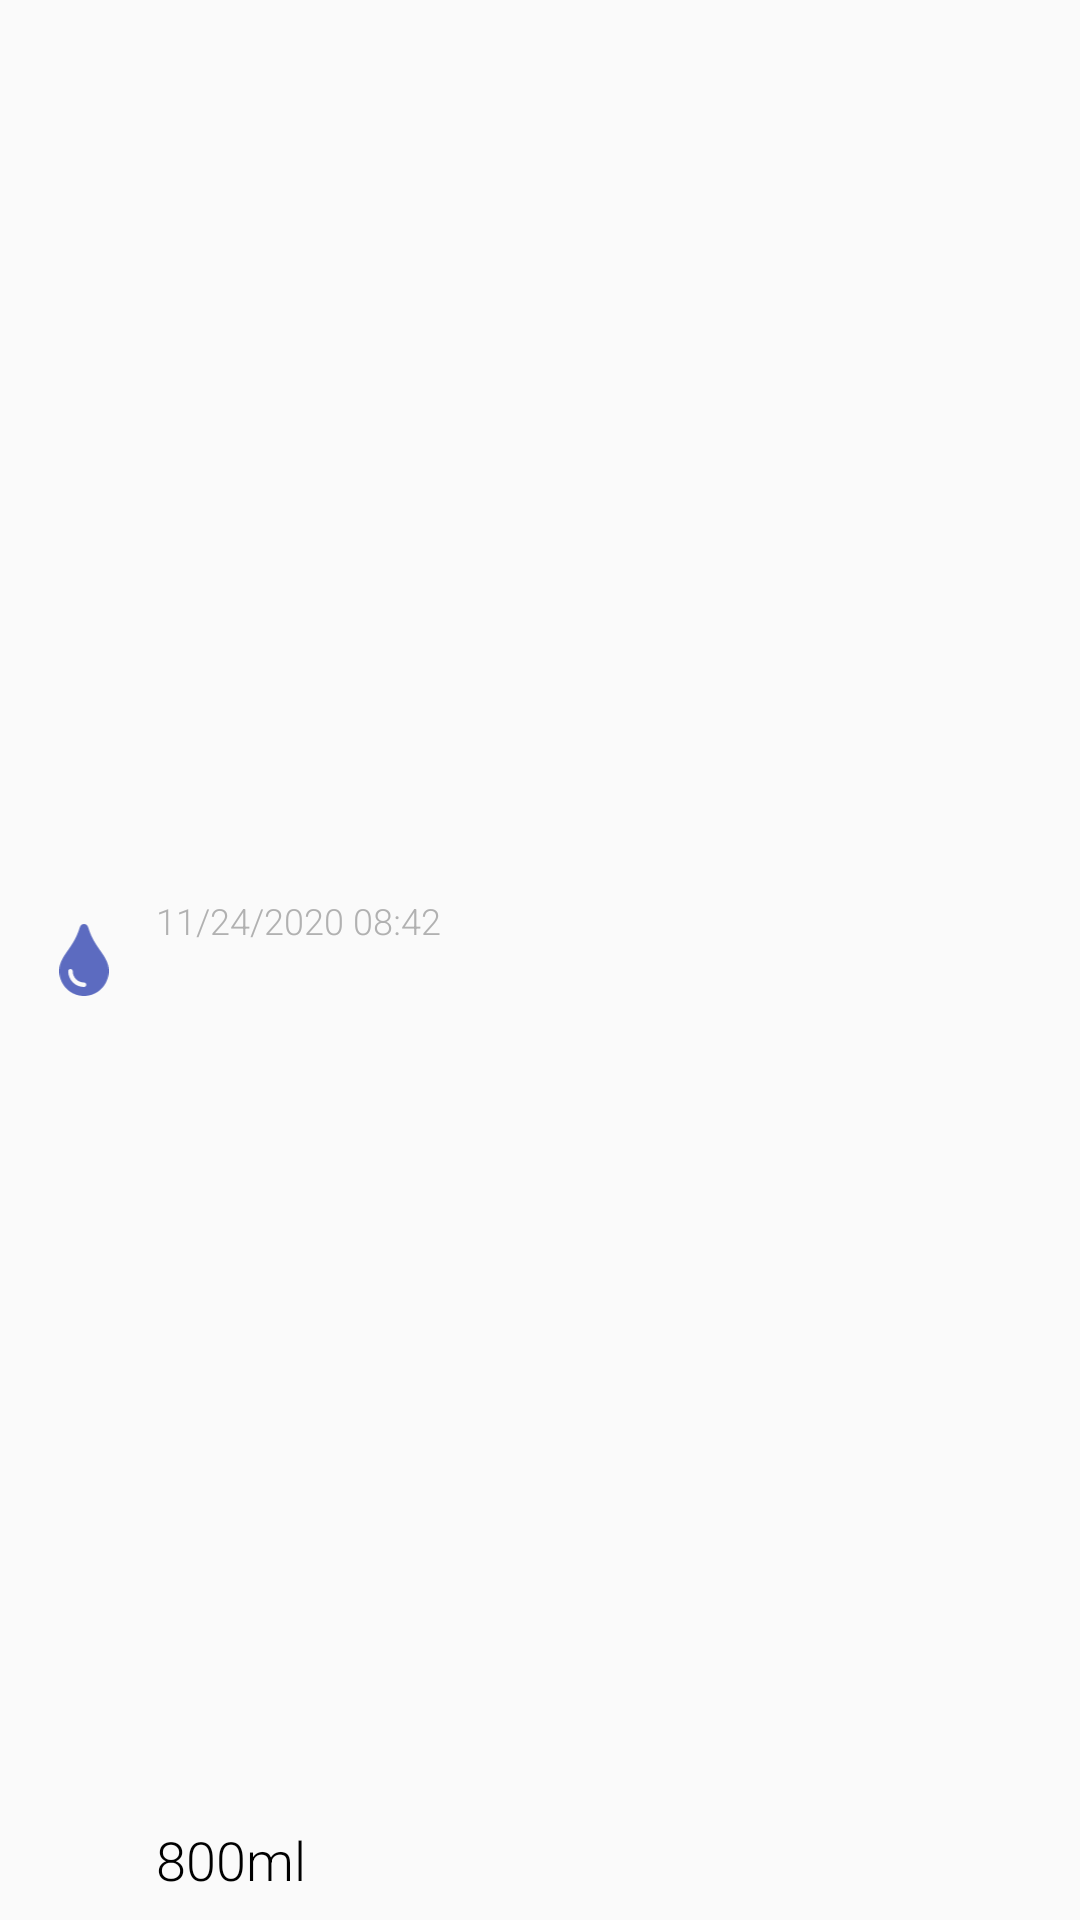

Icons on this 1080×1920 Android screen, each with the point to tap as [x,y]:
tint: [84,960]
